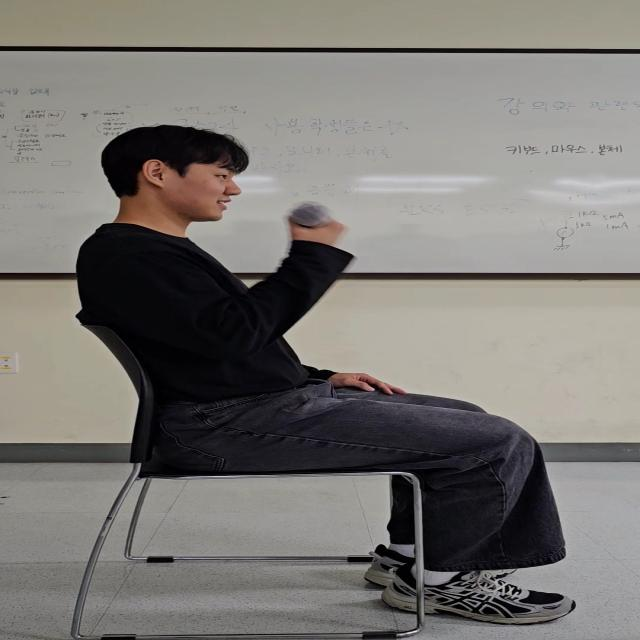curl: (239, 235, 325, 344), (134, 269, 239, 343)
